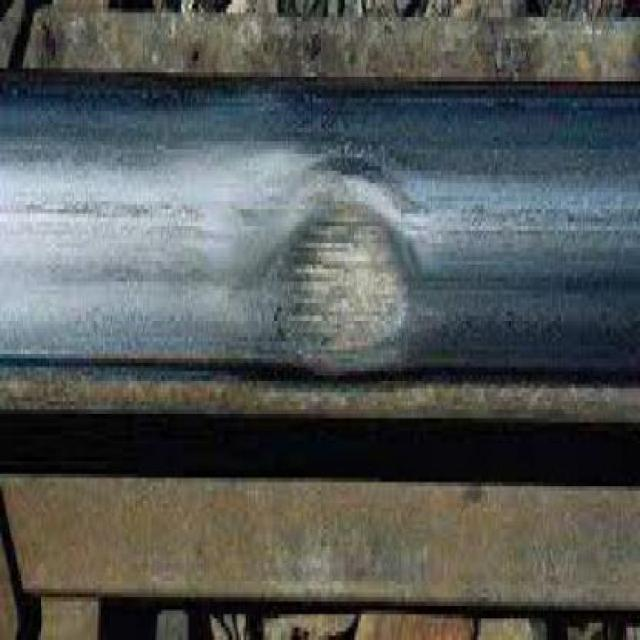defective: (228, 132, 507, 525)
